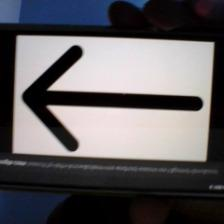left: (25, 46, 202, 150)
